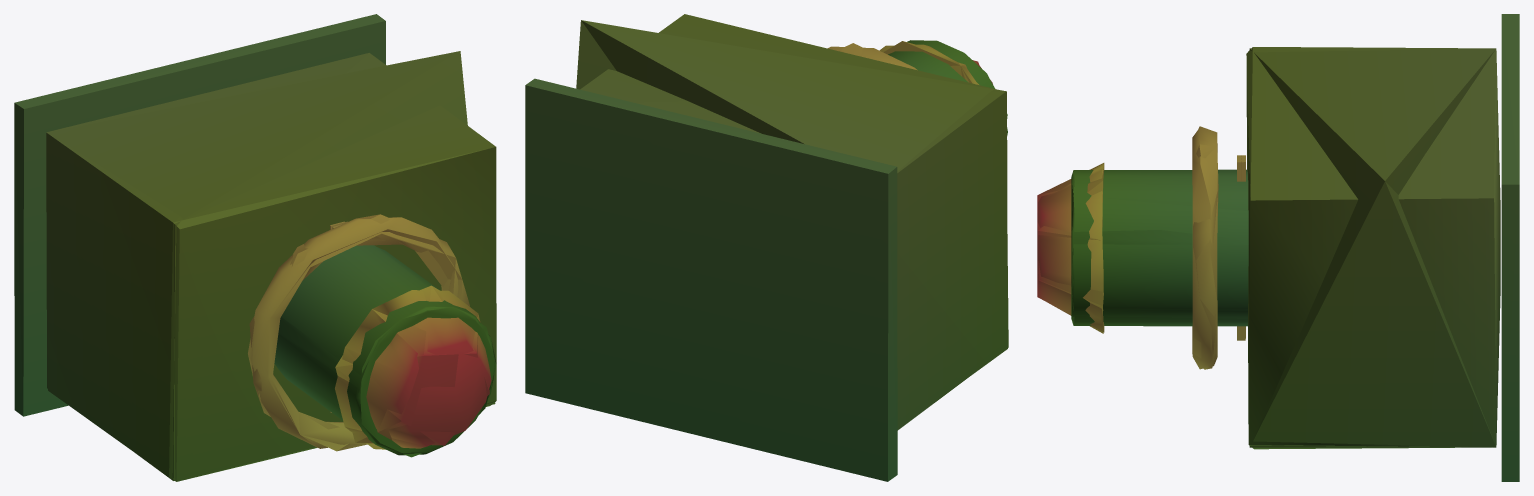
File: RCLModule_assault_walker_plasma_cinder_ablative_sponsons_LODs.fbx
3 renders of one model, left to right at view 1: azimuth 30°, elevation 25°; view 2: azimuth 150°, elevation 25°; view 3: azimuth 270°, elevation 25°, orthographic. The views are drawn at different scales.
Visible parts, largest first — view 1: LOD1_RCLModule_assault_walker_plasma_cinder_ablative_sponson (×3), LOD2_RCLModule_assault_walker_plasma_cinder_ablative_sponson (×3); view 2: LOD1_RCLModule_assault_walker_plasma_cinder_ablative_sponson (×3), LOD2_RCLModule_assault_walker_plasma_cinder_ablative_sponson (×2); view 3: LOD1_RCLModule_assault_walker_plasma_cinder_ablative_sponson (×3), LOD2_RCLModule_assault_walker_plasma_cinder_ablative_sponson (×3).
Part boxes in pixels (x1,y1,x2,y2): LOD1_RCLModule_assault_walker_plasma_cinder_ablative_sponson (×3): (14, 14, 496, 481); LOD2_RCLModule_assault_walker_plasma_cinder_ablative_sponson (×3): (46, 51, 496, 480); LOD1_RCLModule_assault_walker_plasma_cinder_ablative_sponson (×3): (525, 14, 1008, 481); LOD2_RCLModule_assault_walker_plasma_cinder_ablative_sponson (×2): (576, 20, 1007, 369); LOD1_RCLModule_assault_walker_plasma_cinder_ablative_sponson (×3): (1037, 14, 1519, 481); LOD2_RCLModule_assault_walker_plasma_cinder_ablative_sponson (×3): (1037, 48, 1496, 447).
Size of the model in its own units: 33.07 by 26.72 by 37.99.
